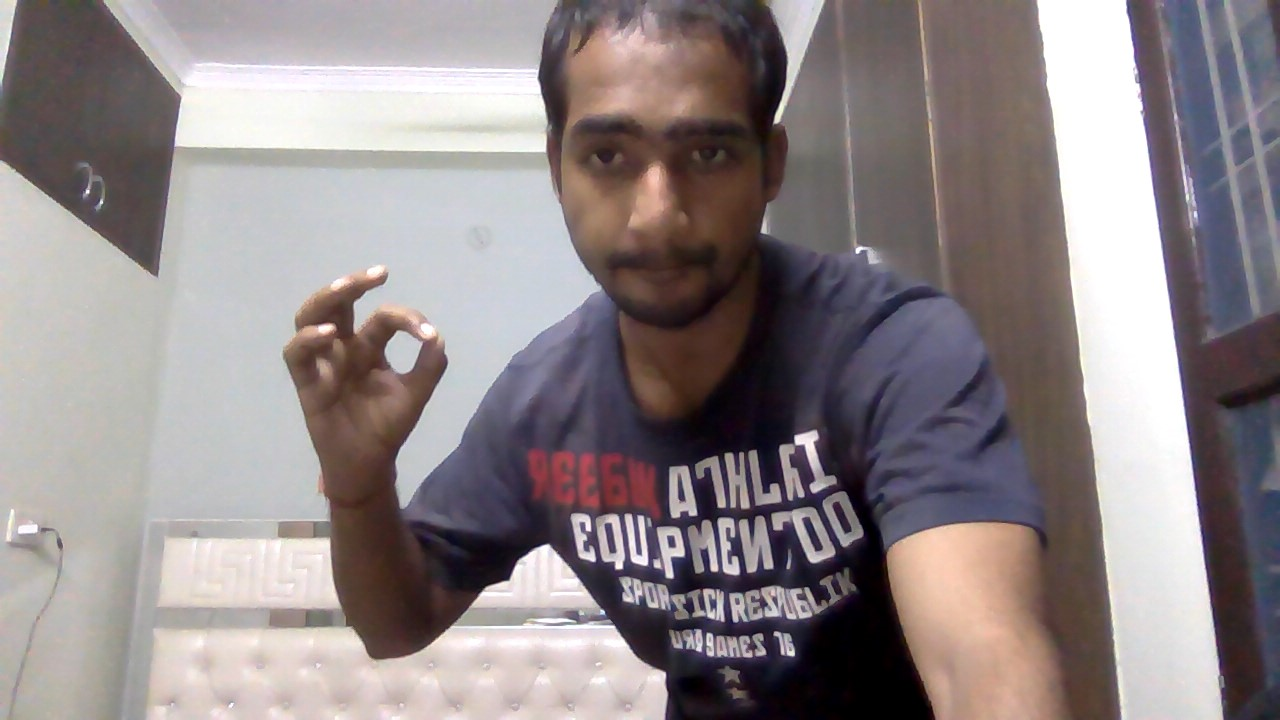Copy: (276, 255, 459, 494)
